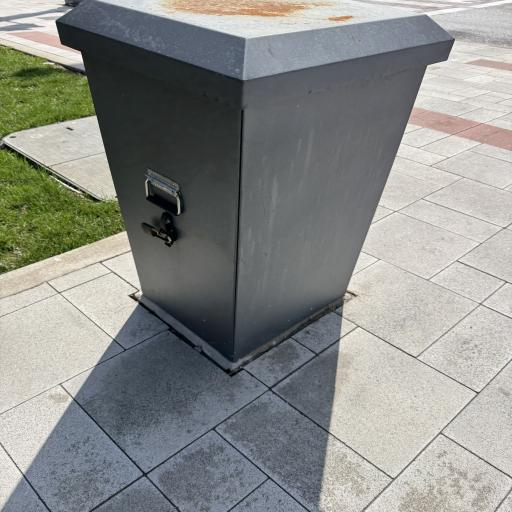Electrical Box: (56, 1, 457, 360)
